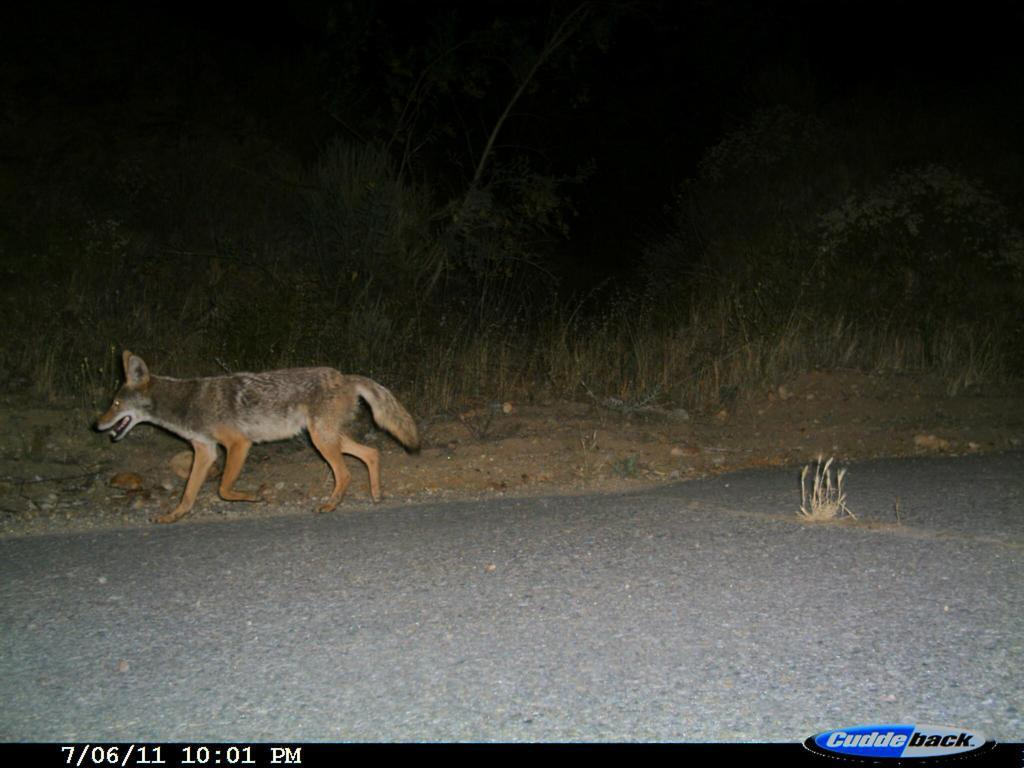coyote: (71, 346, 445, 546)
